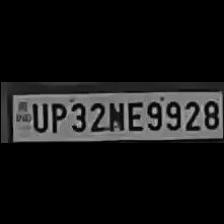2: (86, 97, 106, 130), (182, 97, 200, 130)
3: (66, 98, 86, 132)
8: (200, 97, 220, 128)
9: (144, 98, 162, 130), (162, 98, 180, 130)
E: (124, 97, 142, 130)
N: (105, 97, 123, 130)
P: (46, 98, 64, 132)
U: (28, 99, 46, 131)
